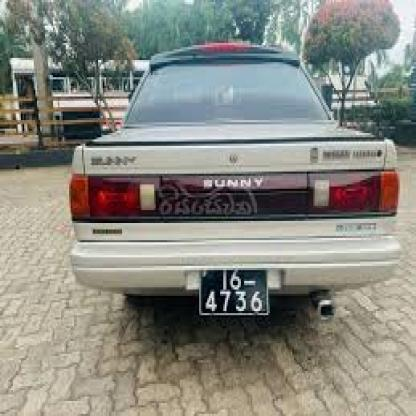car back: (68, 46, 398, 315)
number plate: (199, 267, 267, 314)
